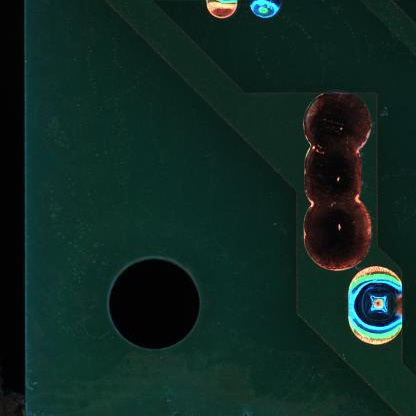spot: (345, 266, 404, 345)
